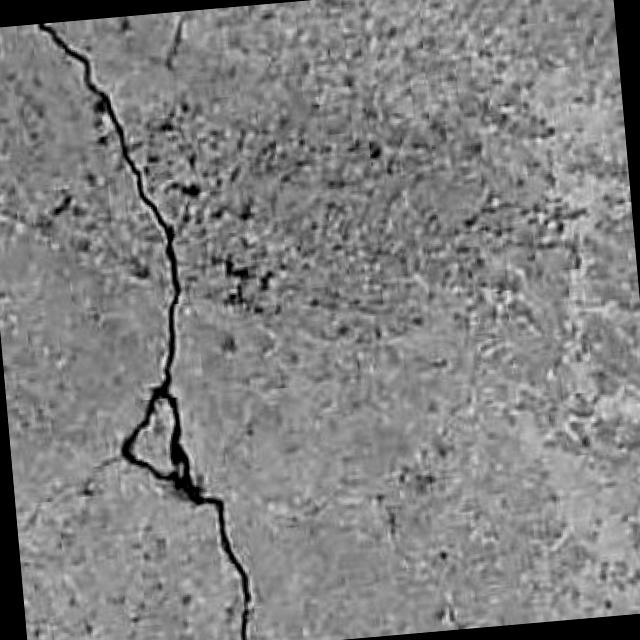crack: (38, 24, 252, 639)
